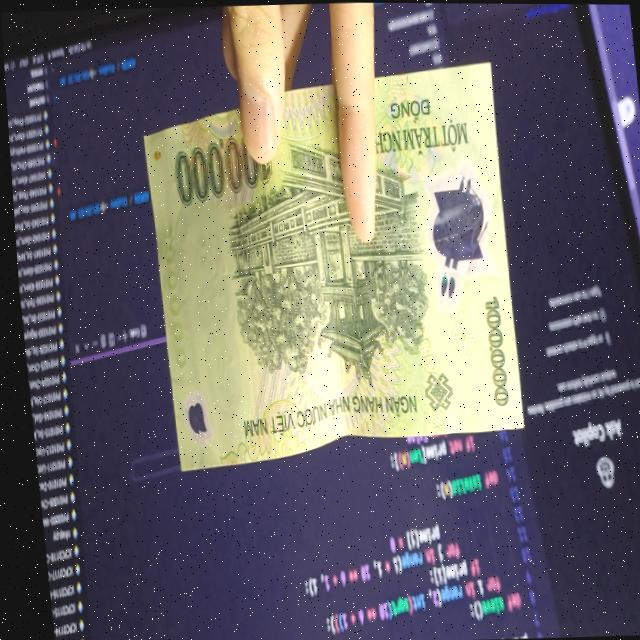100 000 VND: (129, 57, 527, 471)
